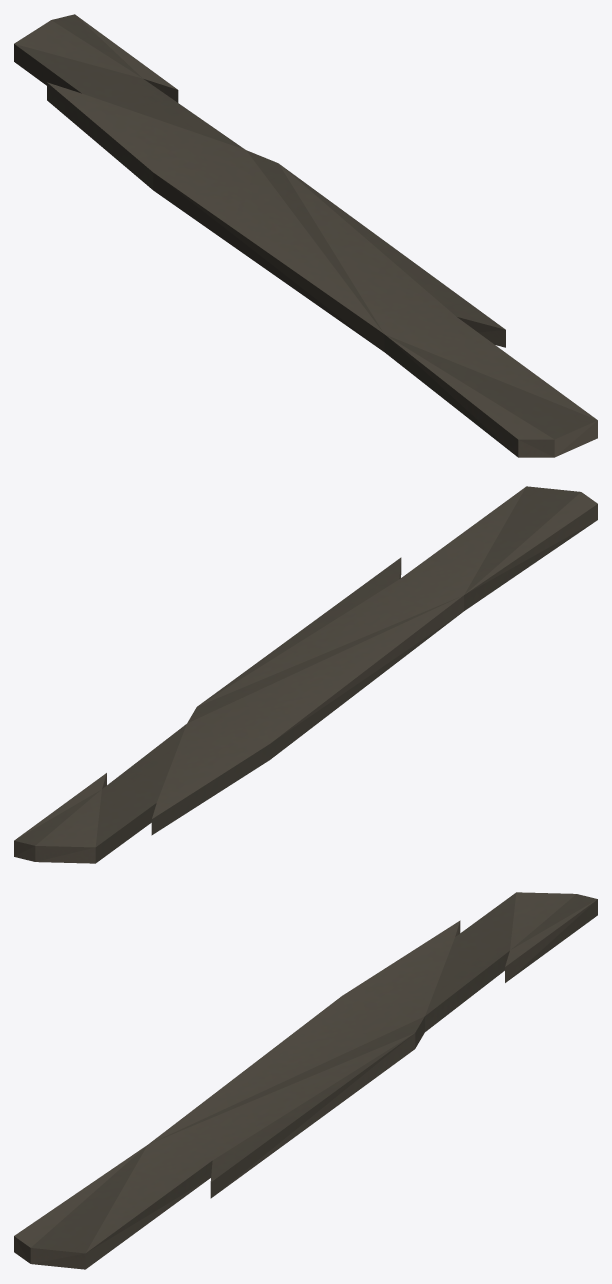
Rendered from Wood_1E.fbx.
3 renders of one model, top to bottom at view 1: azimuth 30°, elevation 25°; view 2: azimuth 150°, elevation 25°; view 3: azimuth 330°, elevation 25°, orthographic. The views are drawn at different scales.
Parts seen in each view (by area): view 1: pCube995; view 2: pCube995; view 3: pCube995.
Part boxes in pixels (x1,y1,x2,y2): pCube995: (14,14,597,457); pCube995: (14,486,597,863); pCube995: (14,892,597,1269).
Bounding box in the file's own units: 0.48 × 0.08 × 4.47.
